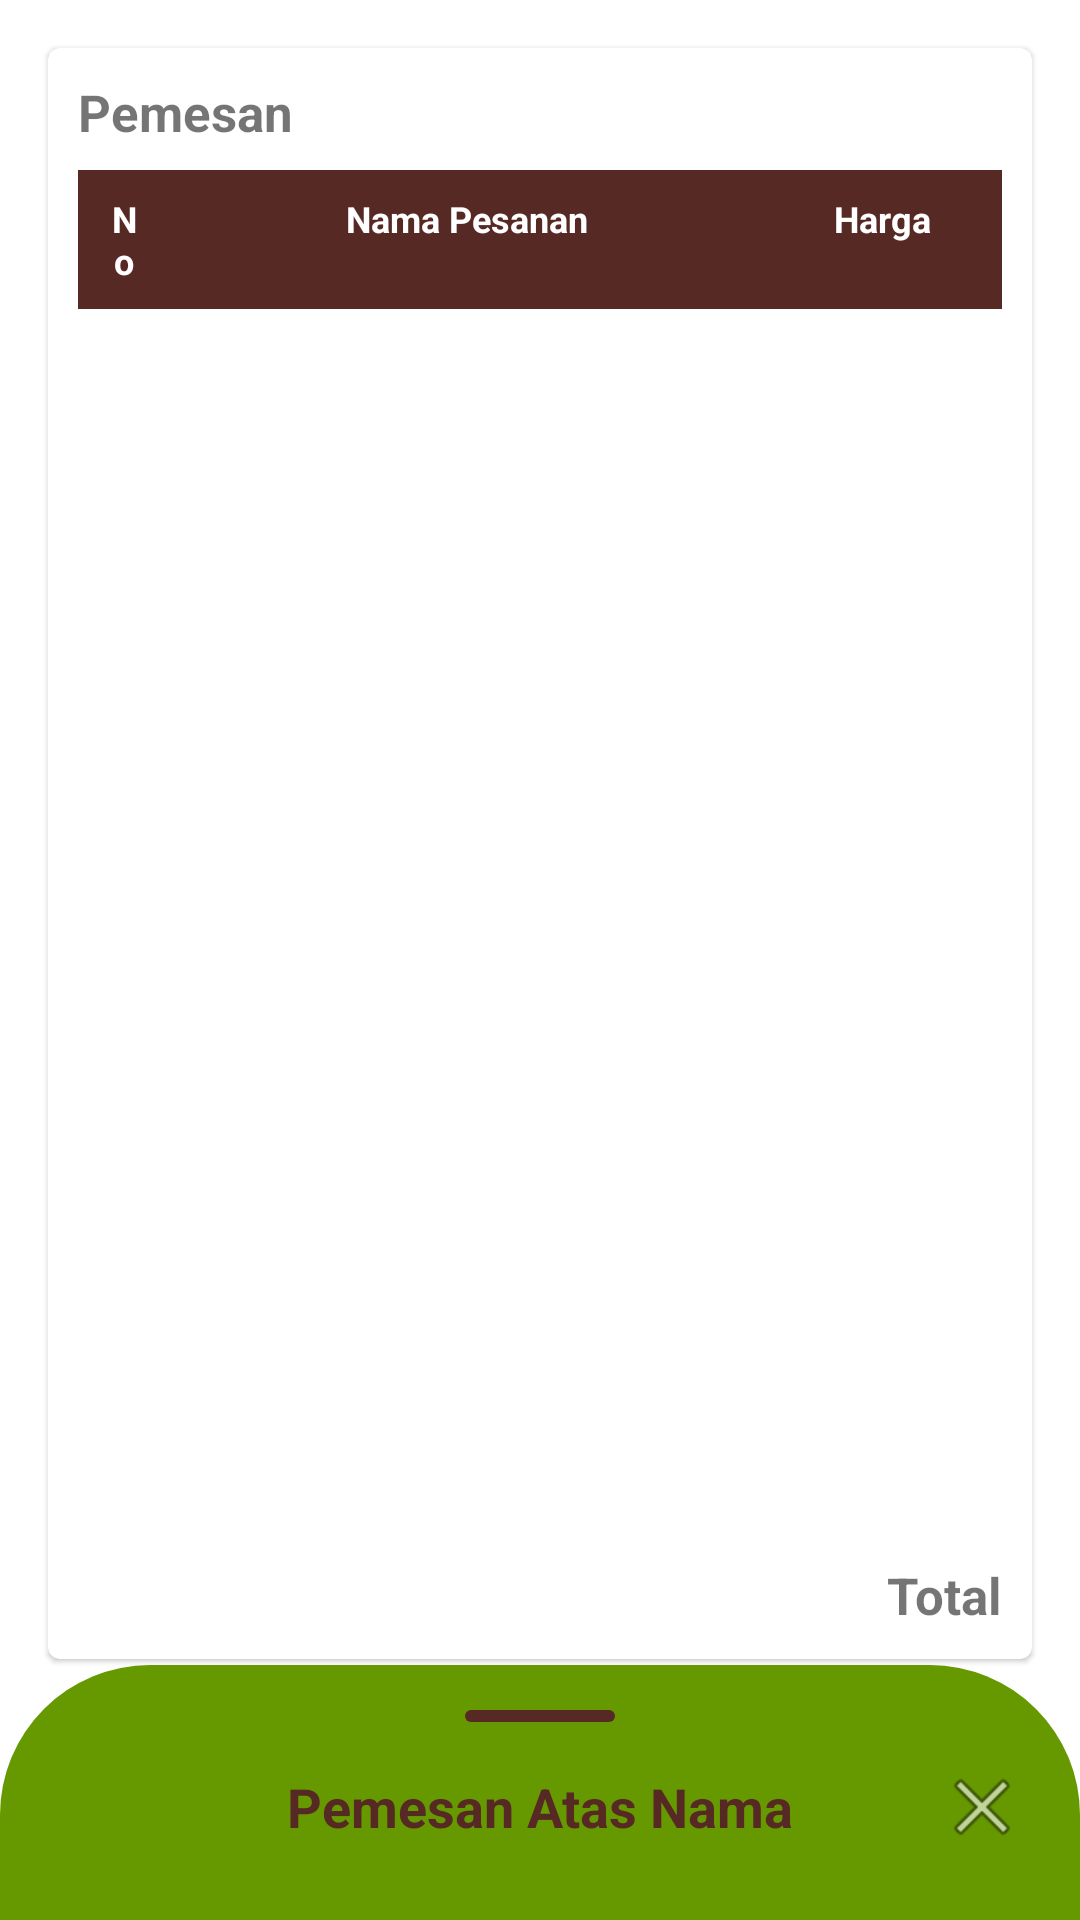

Point at icon controls on the screen. Image size 1080 × 1920, points as point (x, y).
close clear cancel: point (982, 1807)
